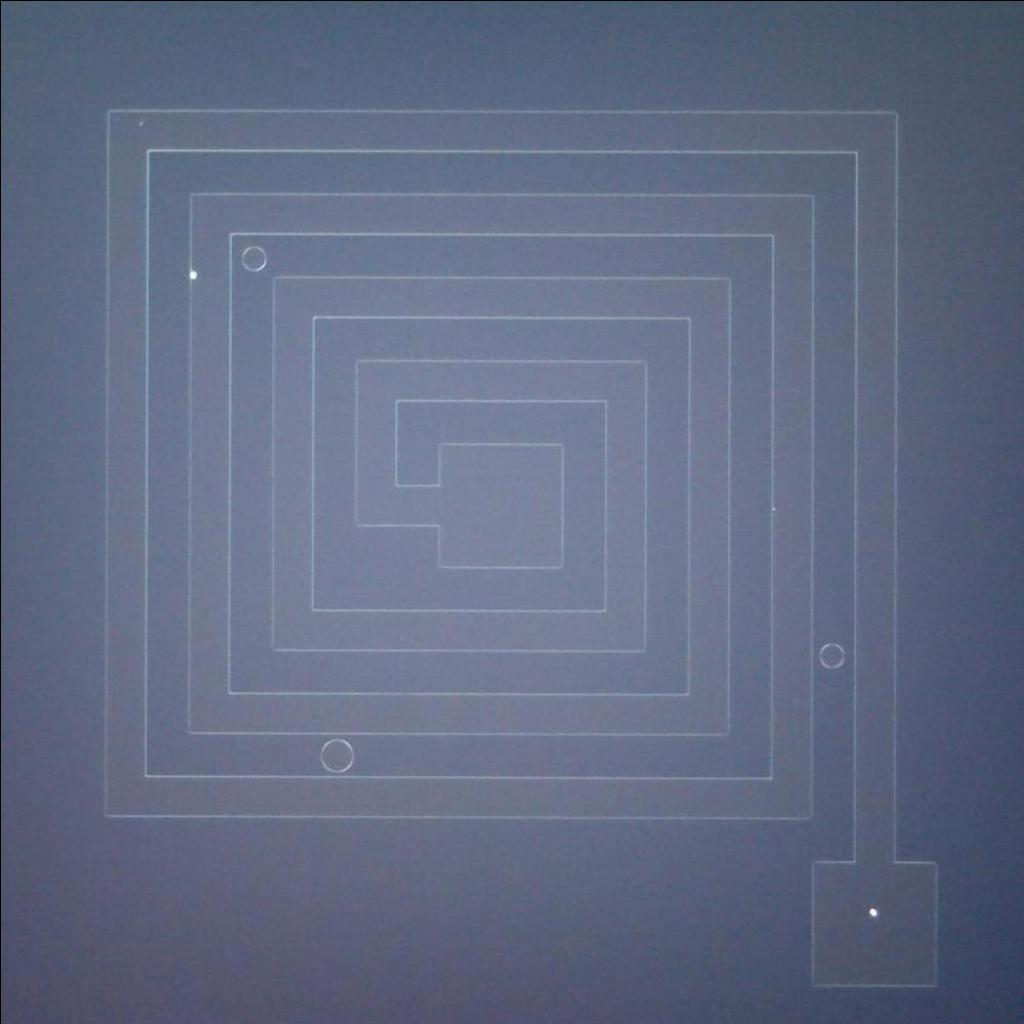circle: (313, 736, 360, 774), (816, 636, 847, 676), (236, 243, 270, 272)
spot: (861, 899, 886, 925), (183, 263, 205, 285)
